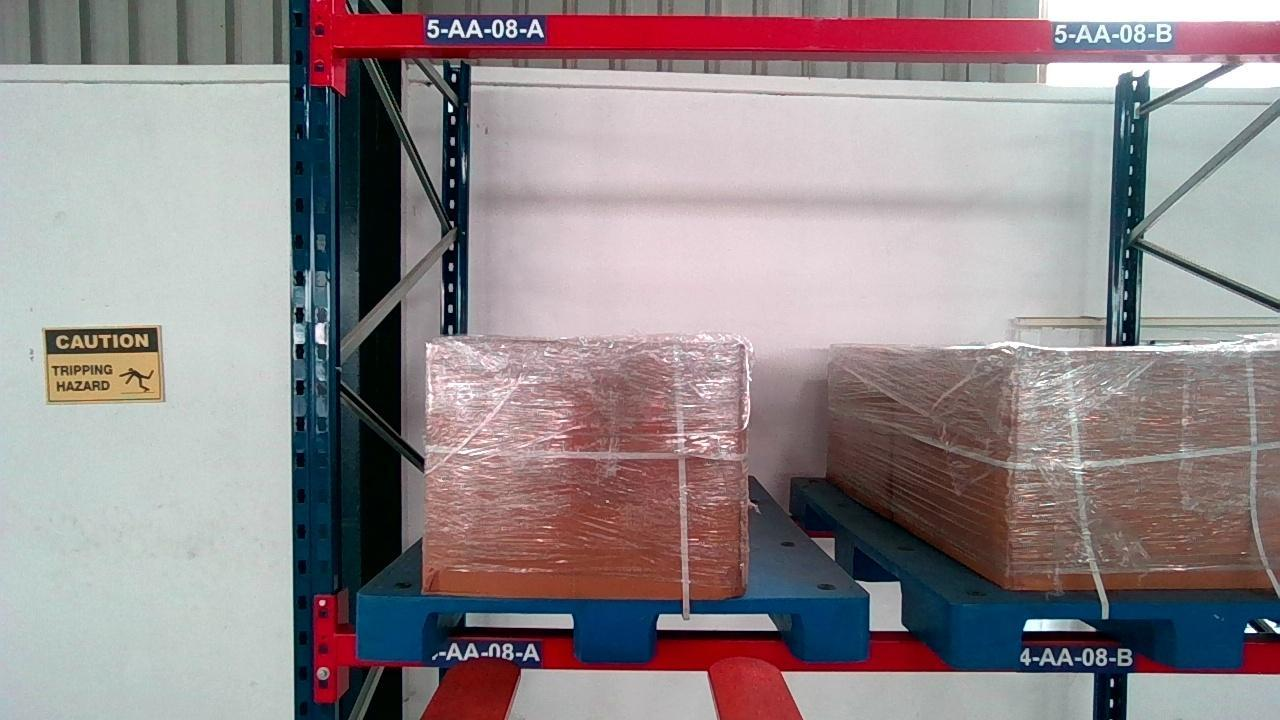h_rack: (339, 633, 1279, 674), (340, 14, 1279, 52)
small_pallet: (357, 593, 865, 661), (957, 604, 1276, 669)
